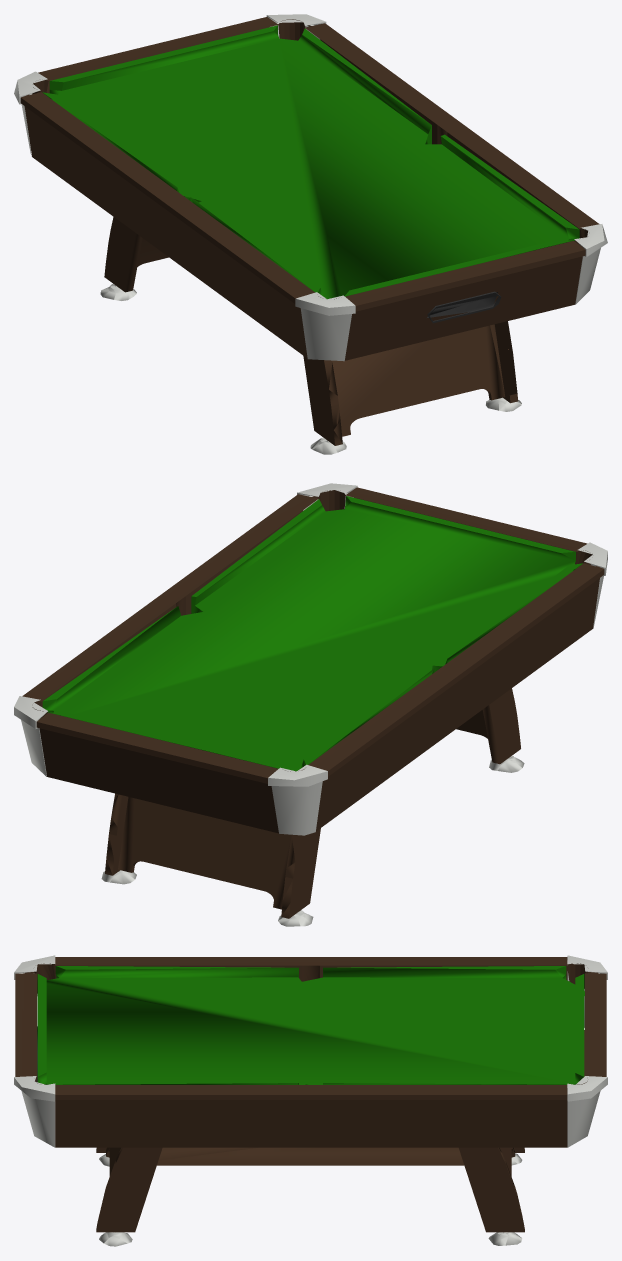
File: pool-table-2.glb
3 views of the same model, one above another, from view 1: azimuth 30°, elevation 25°; view 2: azimuth 150°, elevation 25°; view 3: azimuth 270°, elevation 25° (orthographic). The views are drawn at different scales.
Visible parts, largest first — view 1: Tabletop_1, Legs_0; view 2: Tabletop_1, Legs_0; view 3: Tabletop_1, Legs_0.
Part boxes in pixels (left/top/right/bottom): Tabletop_1: left=14, top=14, right=607, bottom=361; Legs_0: left=100, top=217, right=521, bottom=454; Tabletop_1: left=14, top=483, right=607, bottom=835; Legs_0: left=101, top=688, right=524, bottom=926; Tabletop_1: left=14, top=955, right=607, bottom=1147; Legs_0: left=96, top=1147, right=524, bottom=1246.
Bounding box in the file's own units: 1.35 × 0.8 × 2.45.
